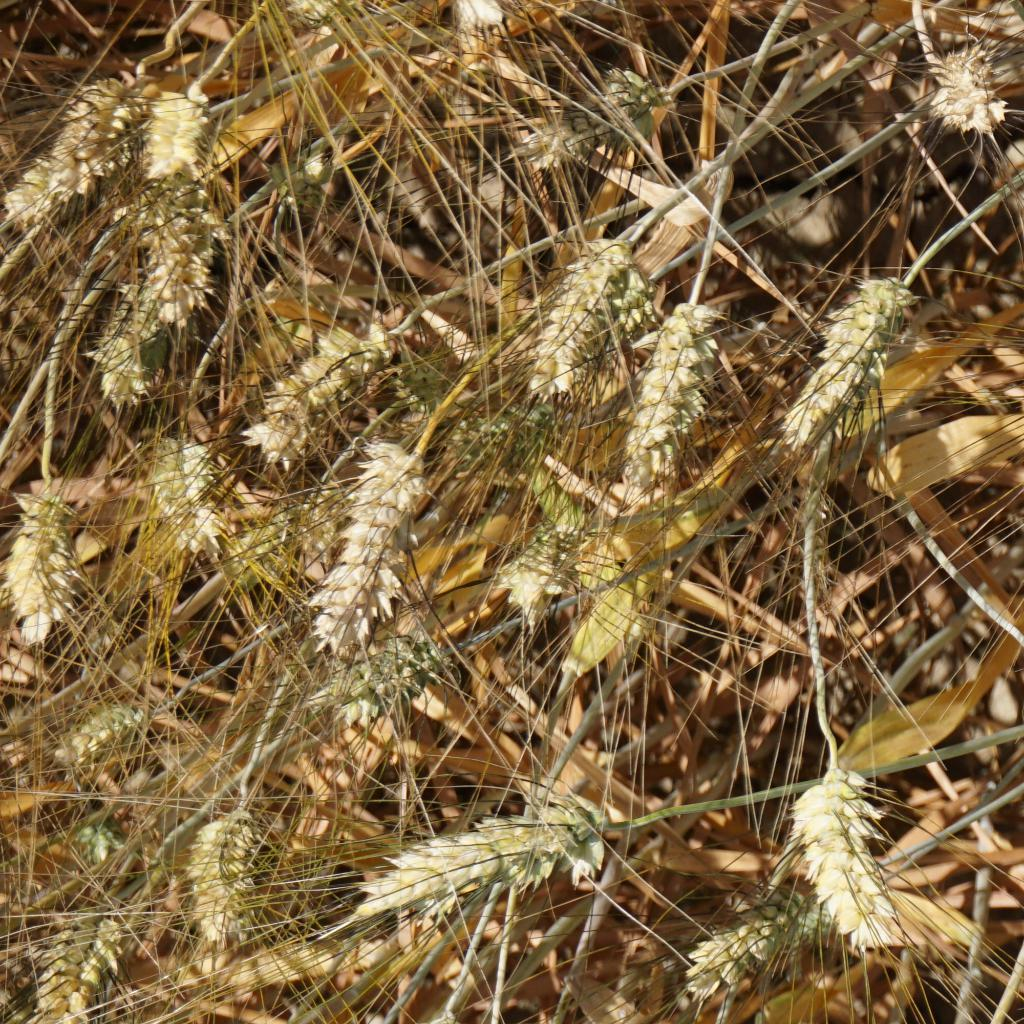0-0: (781, 271, 903, 449), (318, 423, 419, 626), (518, 234, 630, 405), (620, 281, 707, 498), (791, 774, 900, 943), (253, 305, 399, 429), (377, 807, 582, 891), (125, 167, 224, 318), (23, 70, 128, 202), (340, 622, 460, 720), (689, 893, 823, 980), (33, 903, 123, 1024), (179, 803, 263, 923), (919, 45, 1014, 145), (0, 496, 74, 620), (135, 413, 216, 514), (500, 516, 592, 604), (51, 698, 153, 774), (572, 69, 655, 145), (139, 78, 212, 157), (86, 311, 147, 395), (409, 0, 527, 31), (512, 108, 574, 167)
